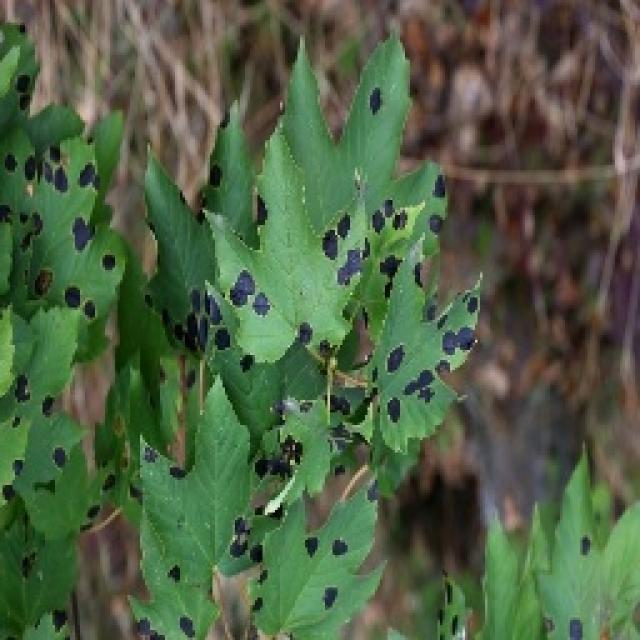Tar_Spot: (228, 186, 474, 459), (125, 498, 409, 627), (53, 116, 170, 369)
